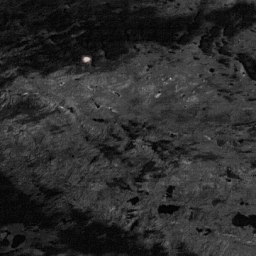Target: (82, 54, 91, 64)
